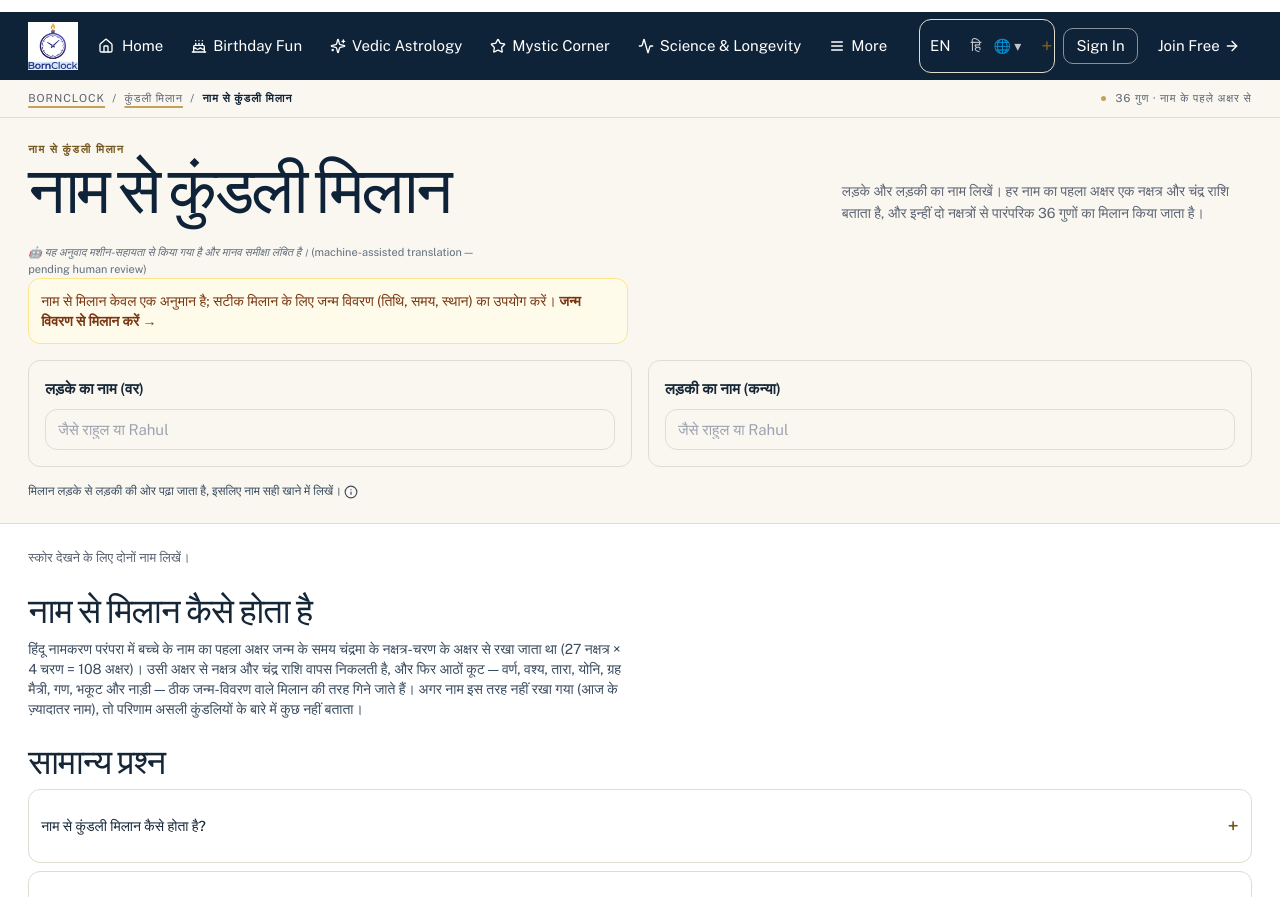
Test case: /hi/naam-se-kundli-milan (Devanagari input) › Hindi H1, Hindi warning, Devanagari names work and Hindi koota labels show
The width and height of the screenshot is (1280, 897).
Check: the heading "नाम से कुंडली मिलान" is shown, box 28,157 -> 450,224
Type "नूतन" into the field labelled "लड़के का नाम (वर)" at (330, 429), box 45,409 -> 615,450
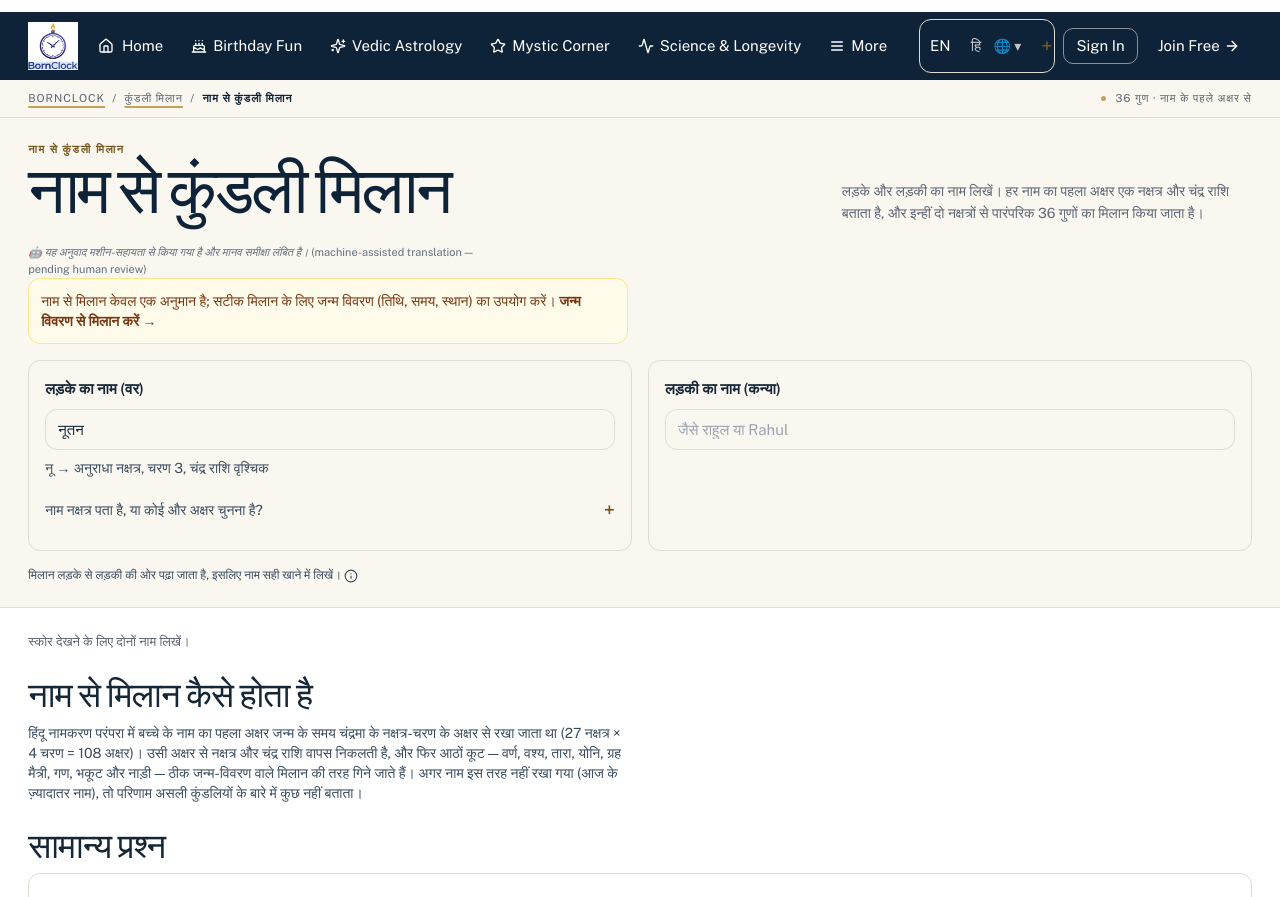
Type "राधा" into the field labelled "लड़की का नाम (कन्या)" at (950, 429), box 665,409 -> 1235,450
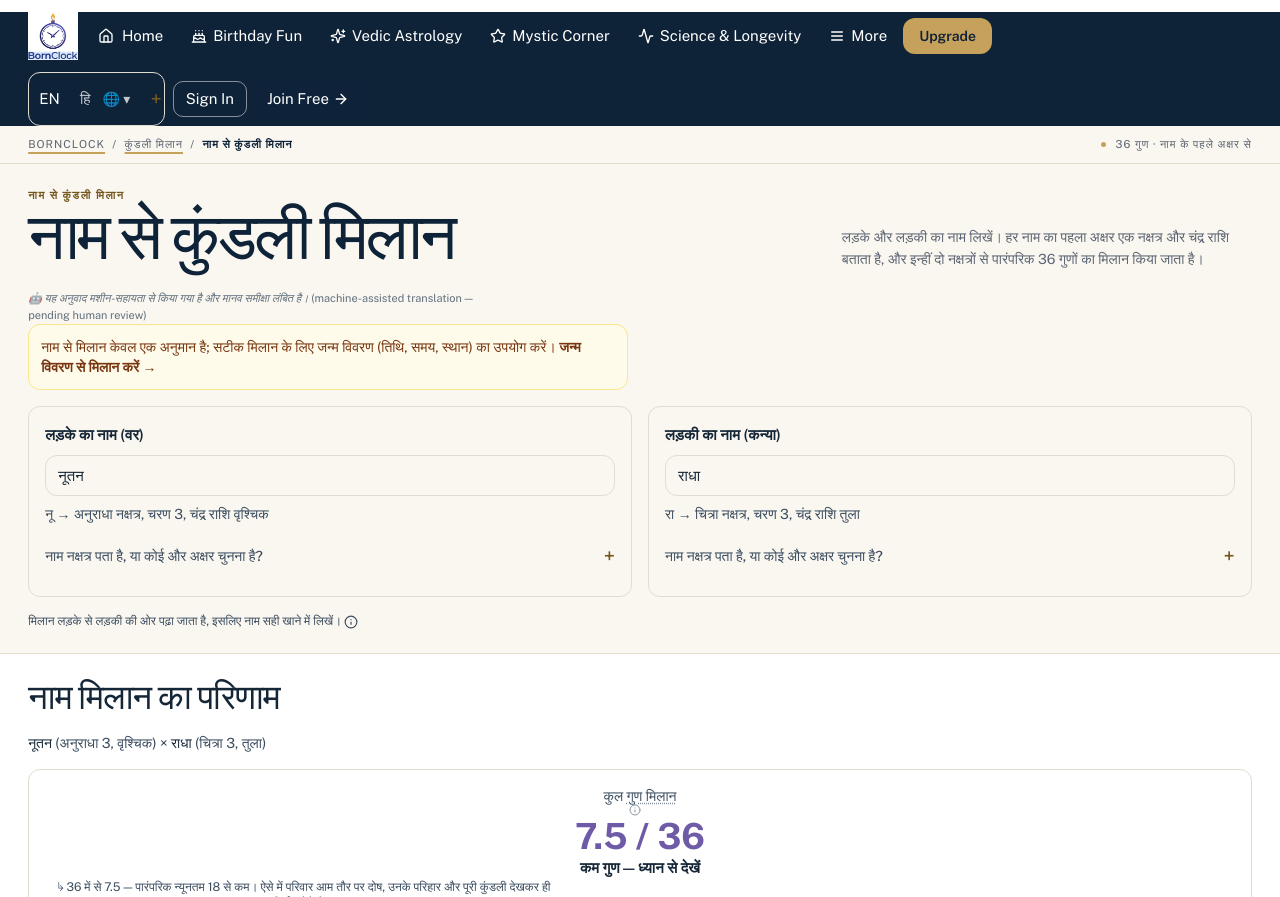
Check: the text "7.5 / 36" is shown, box 575,815 -> 705,857
